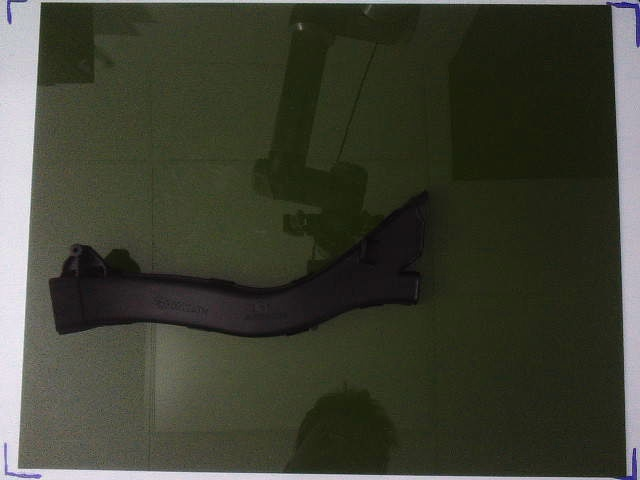887_A-Top: (49, 191, 428, 335)
